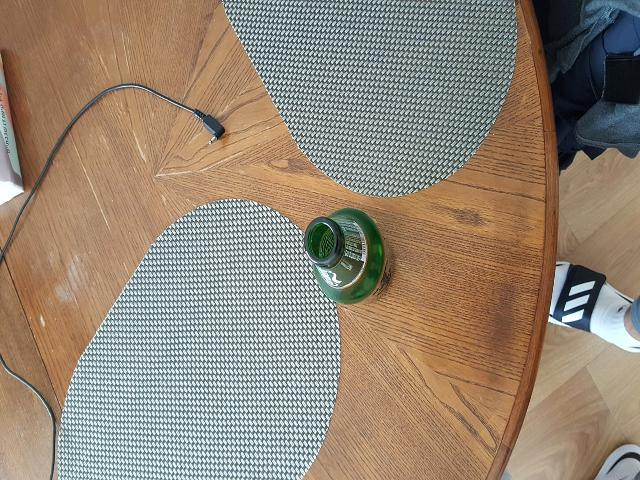beer: (304, 207, 393, 304)
